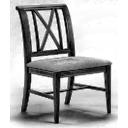chair_success: (10, 2, 117, 126)
